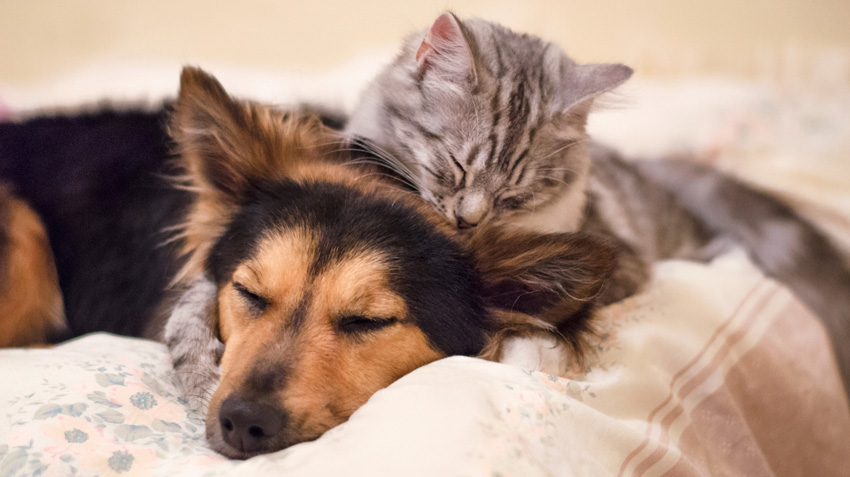cat: (392, 7, 642, 239)
dog: (161, 50, 657, 464)
